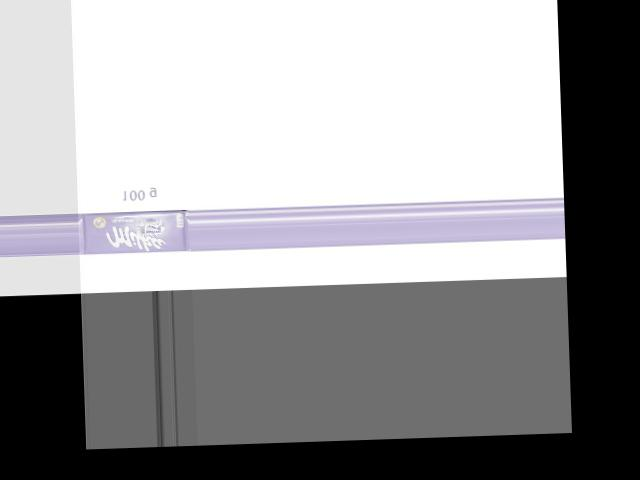chocolate: (81, 201, 191, 255)
